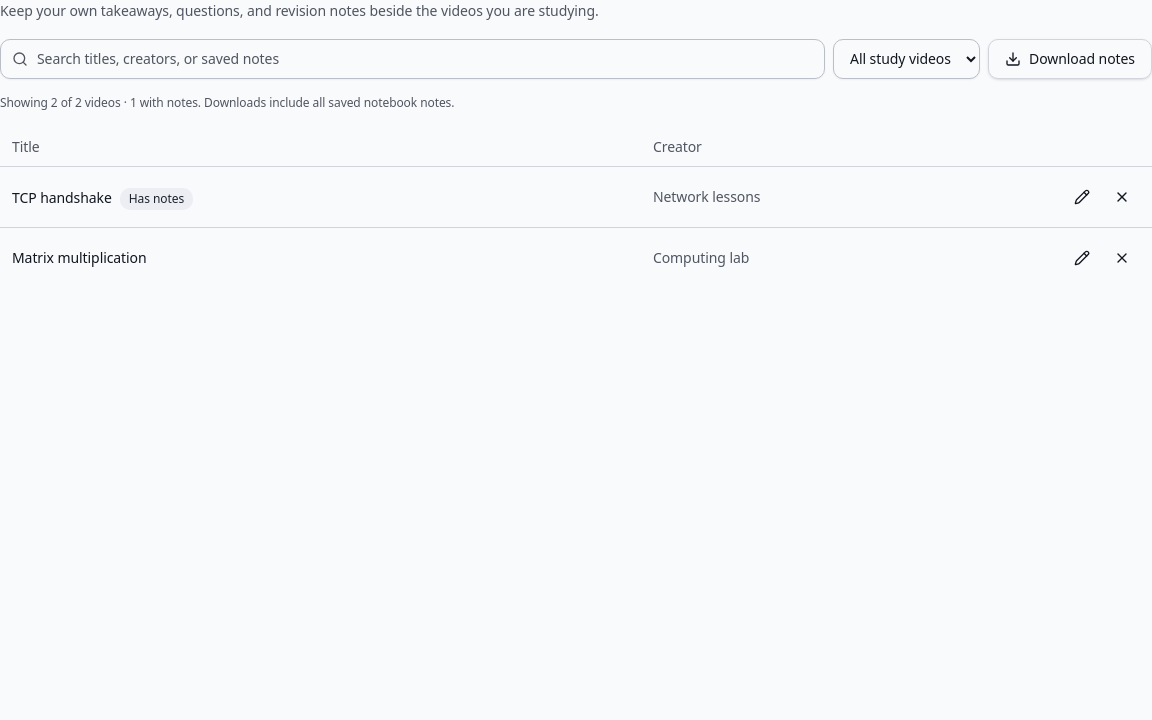
Test case: StudyNotebook › retains the draft after a failed save and lets the user retry
Click the button named "Edit note for TCP handshake": (1082, 197) [1064, 179, 1100, 215]
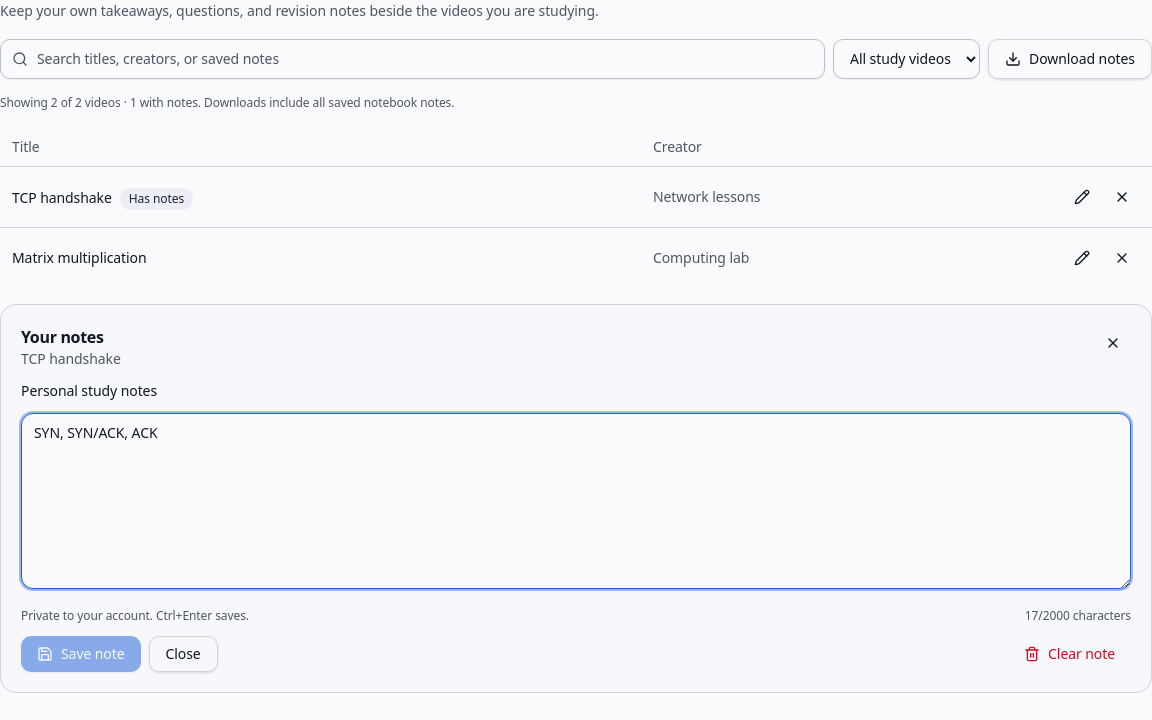
Replace the text in the text box labelled "Personal study notes" with "Keep this draft.": (576, 501) [21, 413, 1131, 589]
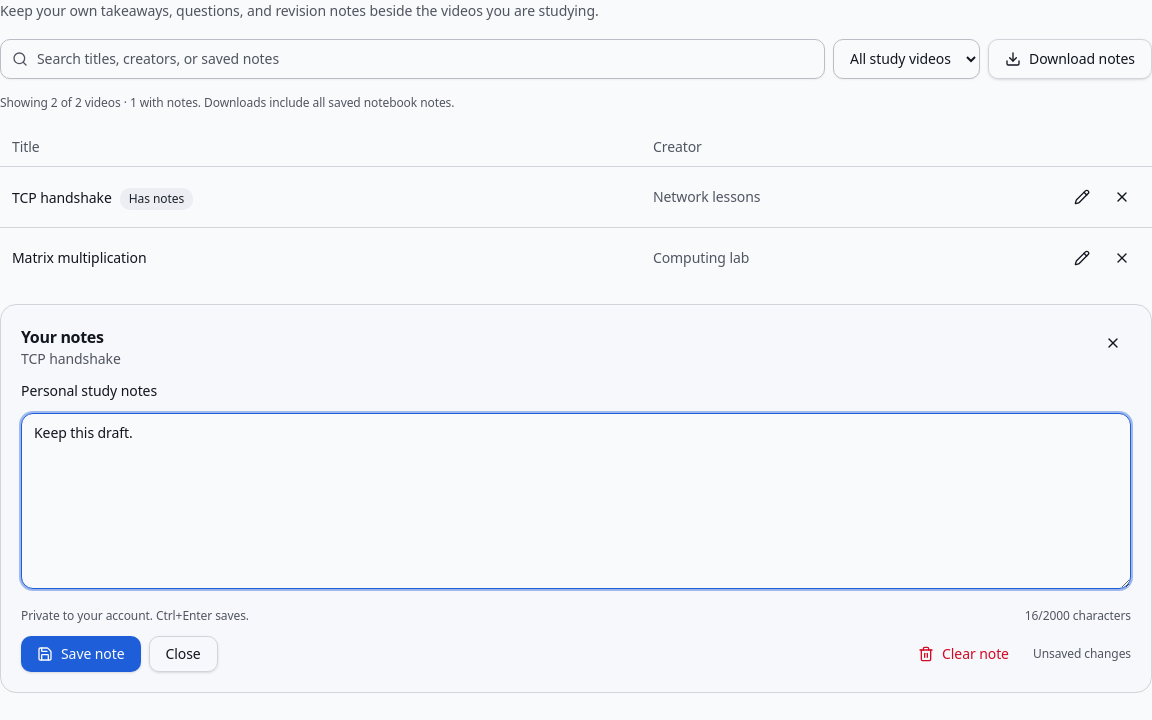
Click the button "Save note": (81, 654) [21, 636, 140, 672]
(page scrolled)
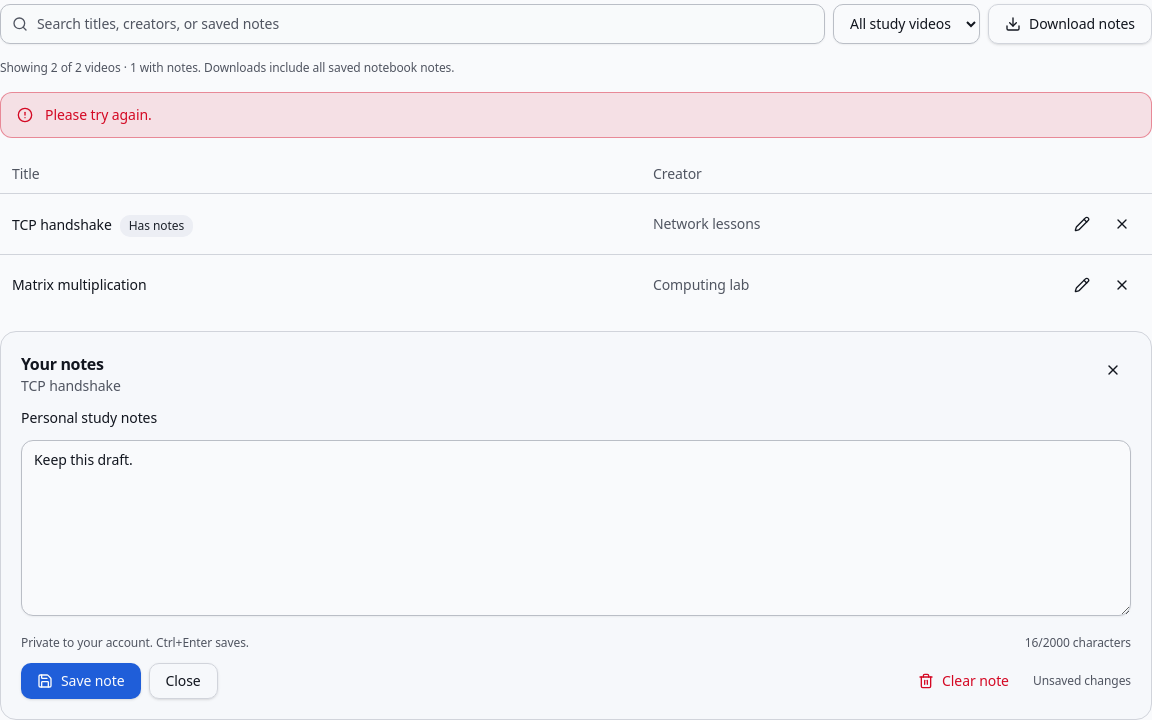
Check: the message reads "Please try again.", box [45, 105, 152, 124]
Click the button "Save note": (81, 681) [21, 663, 140, 699]
(page scrolled)
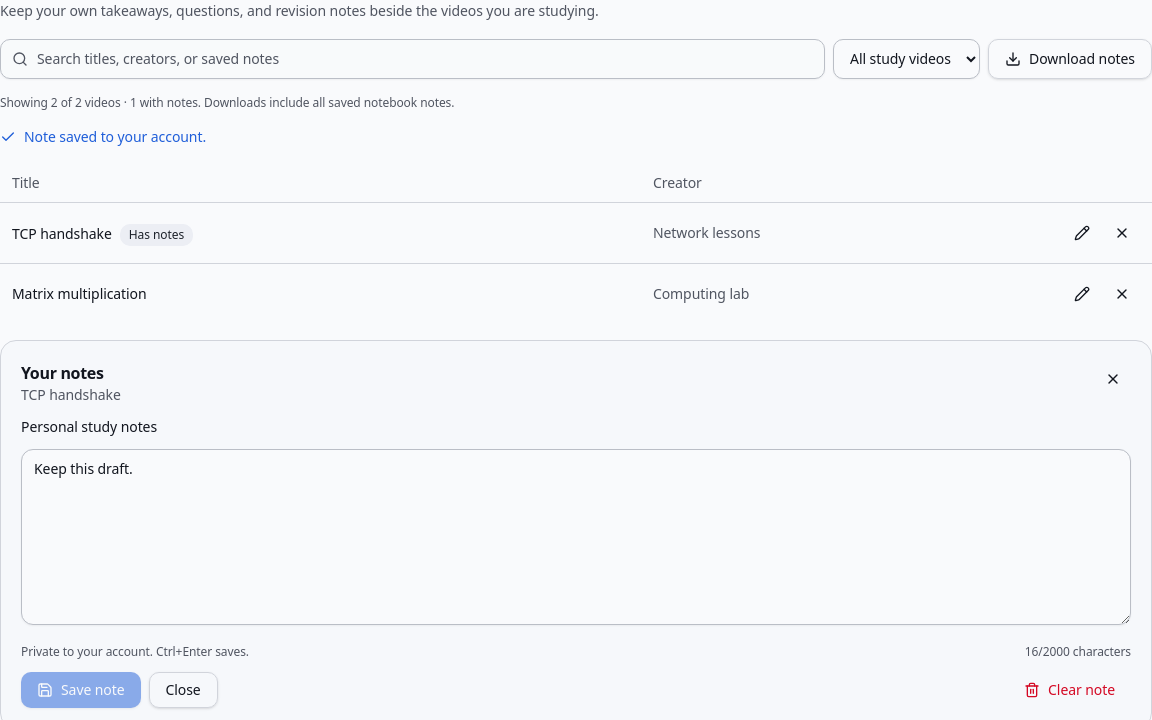
Check: the text "Note saved to your account." is shown, box [0, 127, 206, 146]
